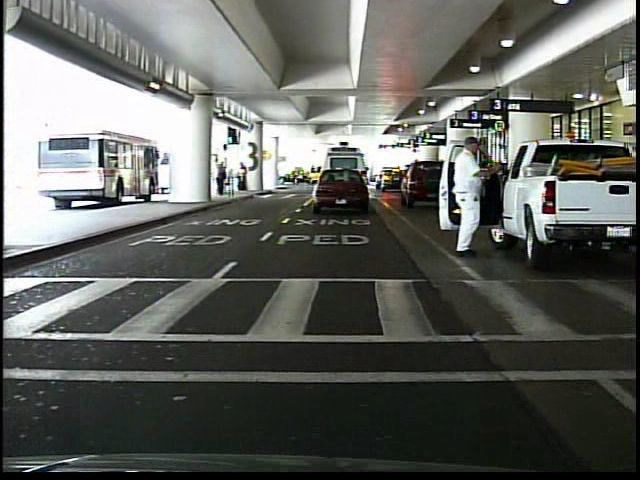person: (449, 130, 488, 260), (214, 155, 228, 200), (234, 163, 250, 196)
